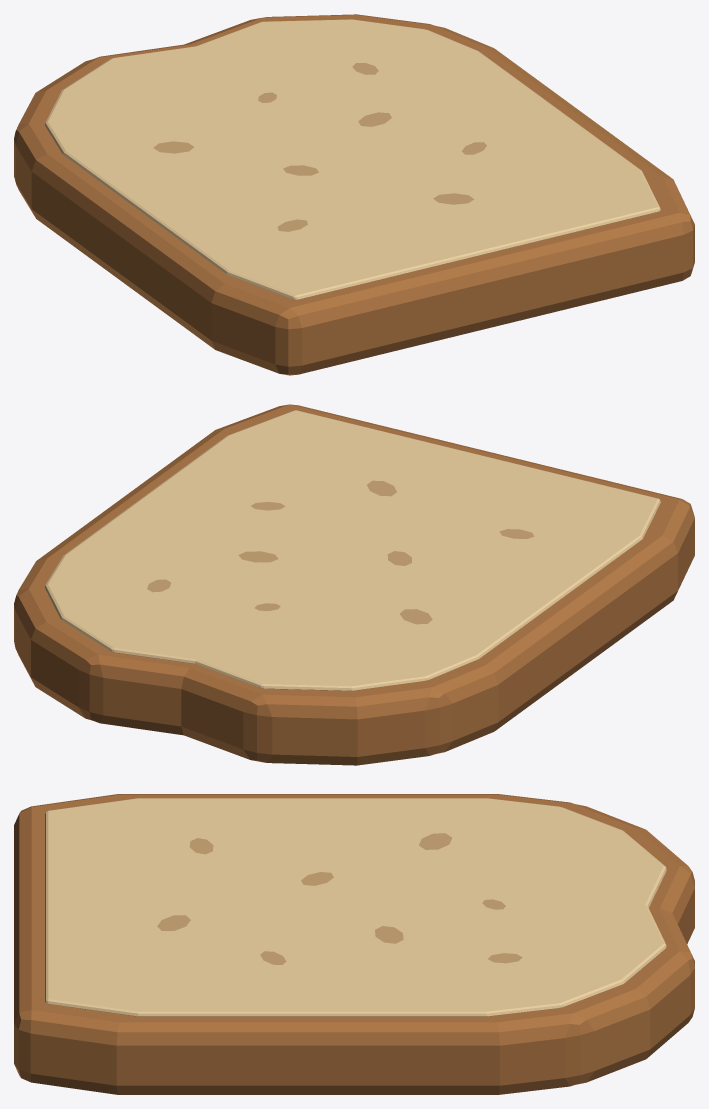
Rendered from bread_resource.glb.
The picture shows the model from 3 angles, top to bottom: view 1: azimuth 30°, elevation 25°; view 2: azimuth 150°, elevation 25°; view 3: azimuth 270°, elevation 25°; orthographic projection. The views are drawn at different scales.
Visible parts, largest first — view 1: Bread_CrumbTop, Bread_Crust, Bread_Pores; view 2: Bread_CrumbTop, Bread_Crust, Bread_Pores; view 3: Bread_CrumbTop, Bread_Crust, Bread_Pores.
Part boxes in pixels (box(x1,y1,x2,y2)): Bread_CrumbTop: box(45, 19, 660, 299); Bread_Crust: box(14, 14, 694, 375); Bread_Pores: box(153, 63, 486, 231); Bread_CrumbTop: box(45, 410, 660, 690); Bread_Crust: box(14, 404, 694, 765); Bread_Pores: box(147, 480, 534, 624); Bread_CrumbTop: box(45, 798, 666, 1016); Bread_Crust: box(14, 794, 694, 1094); Bread_Pores: box(157, 833, 522, 964).
Bounding box in the file's own units: 5.2 × 0.759 × 6.17.
